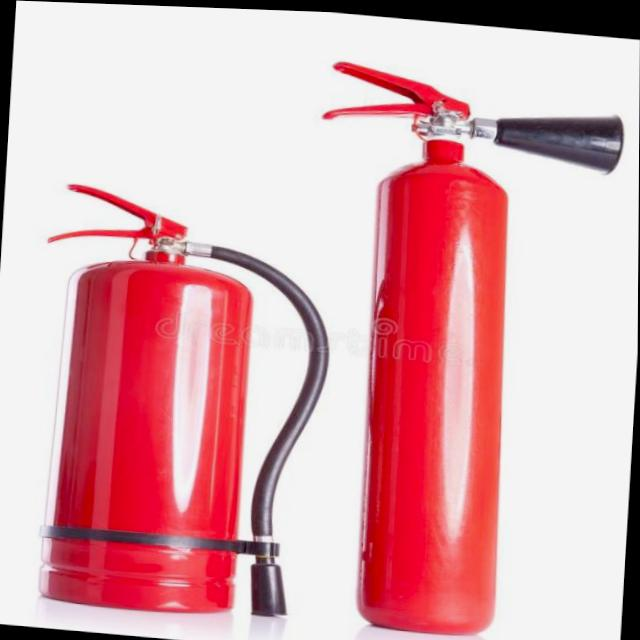FireExtinguisher: (284, 51, 636, 640), (16, 176, 347, 631)
